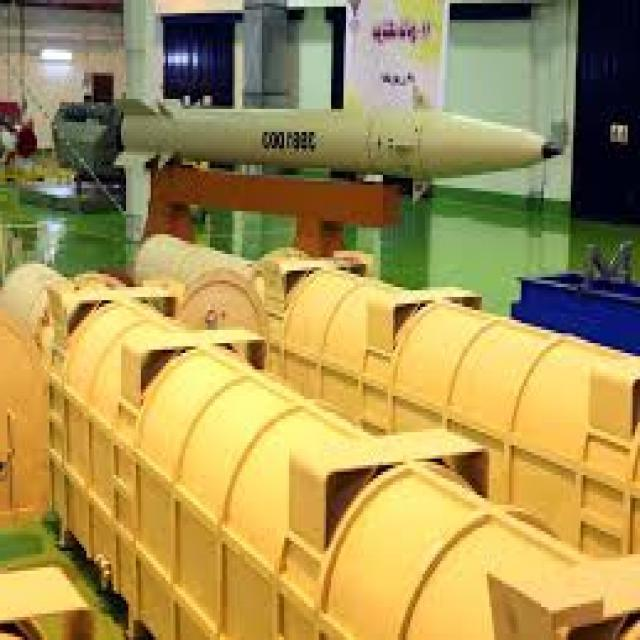missile: (109, 93, 566, 177)
